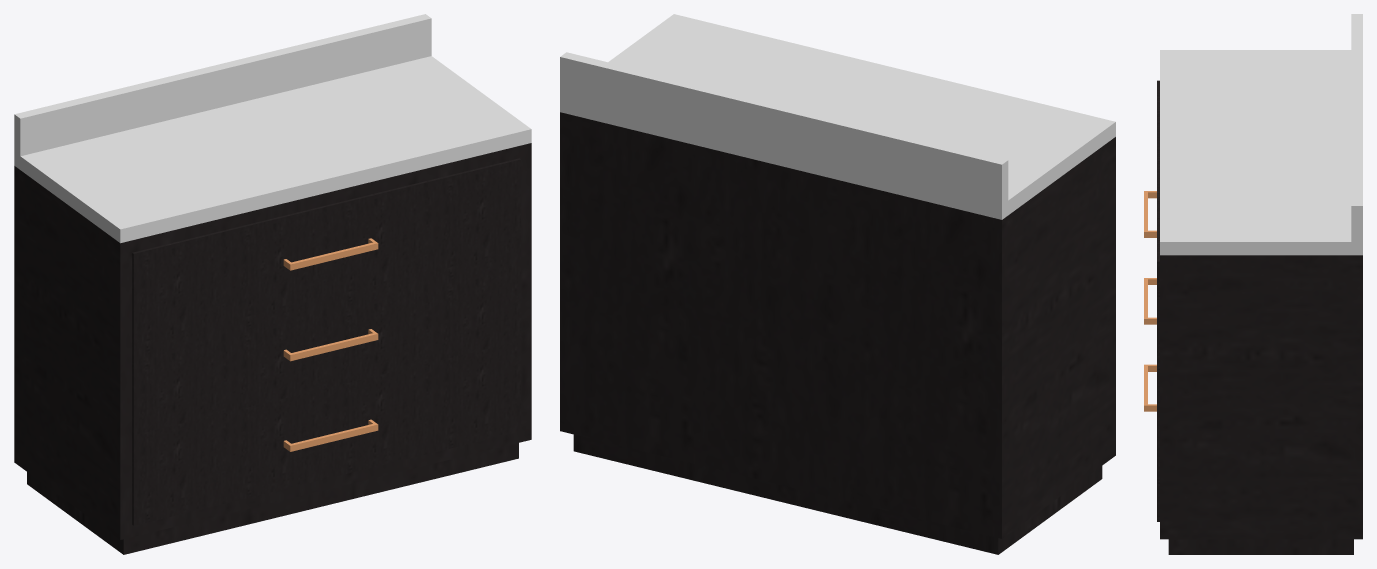
The model's file is vanity_modern_05.glb.
3 views of the same model, side by side, from view 1: azimuth 30°, elevation 25°; view 2: azimuth 150°, elevation 25°; view 3: azimuth 270°, elevation 25° (orthographic). The views are drawn at different scales.
Parts seen in each view (by area): view 1: BathroomVanity05, BathroomVanity05Drawer01, BathroomVanity05Drawer03, BathroomVanity05Drawer02; view 2: BathroomVanity05; view 3: BathroomVanity05, BathroomVanity05Drawer01, BathroomVanity05Drawer03, BathroomVanity05Drawer02.
Part boxes in pixels (left/top/right/bottom): BathroomVanity05: left=14, top=14, right=531, bottom=554; BathroomVanity05Drawer01: left=132, top=158, right=521, bottom=344; BathroomVanity05Drawer03: left=132, top=341, right=521, bottom=525; BathroomVanity05Drawer02: left=132, top=250, right=521, bottom=434; BathroomVanity05: left=560, top=14, right=1115, bottom=554; BathroomVanity05: left=1160, top=14, right=1362, bottom=554; BathroomVanity05Drawer01: left=1144, top=80, right=1159, bottom=348; BathroomVanity05Drawer03: left=1144, top=364, right=1159, bottom=521; BathroomVanity05Drawer02: left=1144, top=278, right=1159, bottom=435.
Size of the model in its own units: 1.56 by 1.33 by 0.7503.
Materials: 1 (1 with a texture image).
